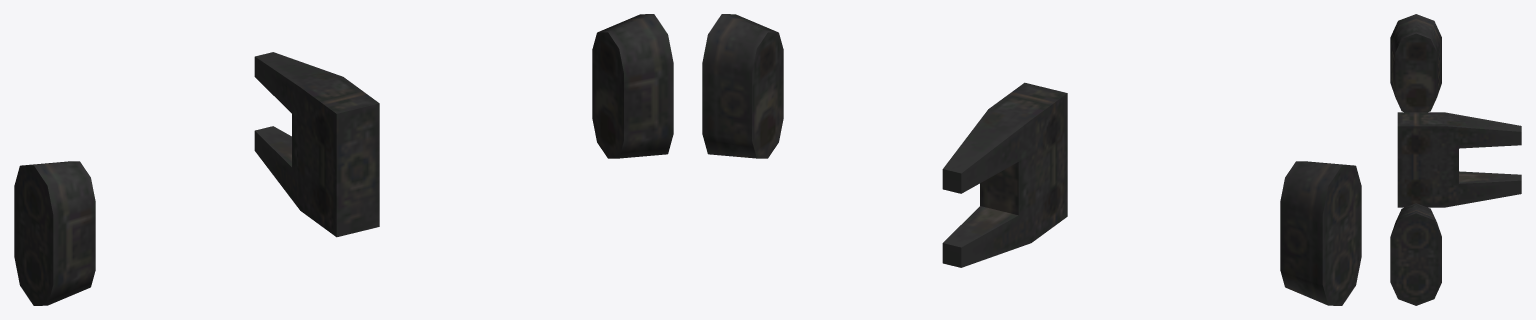
The picture shows the model from 3 angles, left to right: view 1: azimuth 30°, elevation 25°; view 2: azimuth 150°, elevation 25°; view 3: azimuth 270°, elevation 25°; orthographic projection. The views are drawn at different scales.
Parts seen in each view (by area): view 1: set_0_group_0; view 2: set_0_group_0; view 3: set_0_group_0.
Boxes of the visible parts, box(x1,y1,x2,y2) form: set_0_group_0: box(14, 14, 673, 305); set_0_group_0: box(702, 14, 1361, 305); set_0_group_0: box(1390, 14, 1521, 305).
Size of the model in its own units: 0.605 by 0.131 by 0.168.
Materials: 1 (1 with a texture image).
